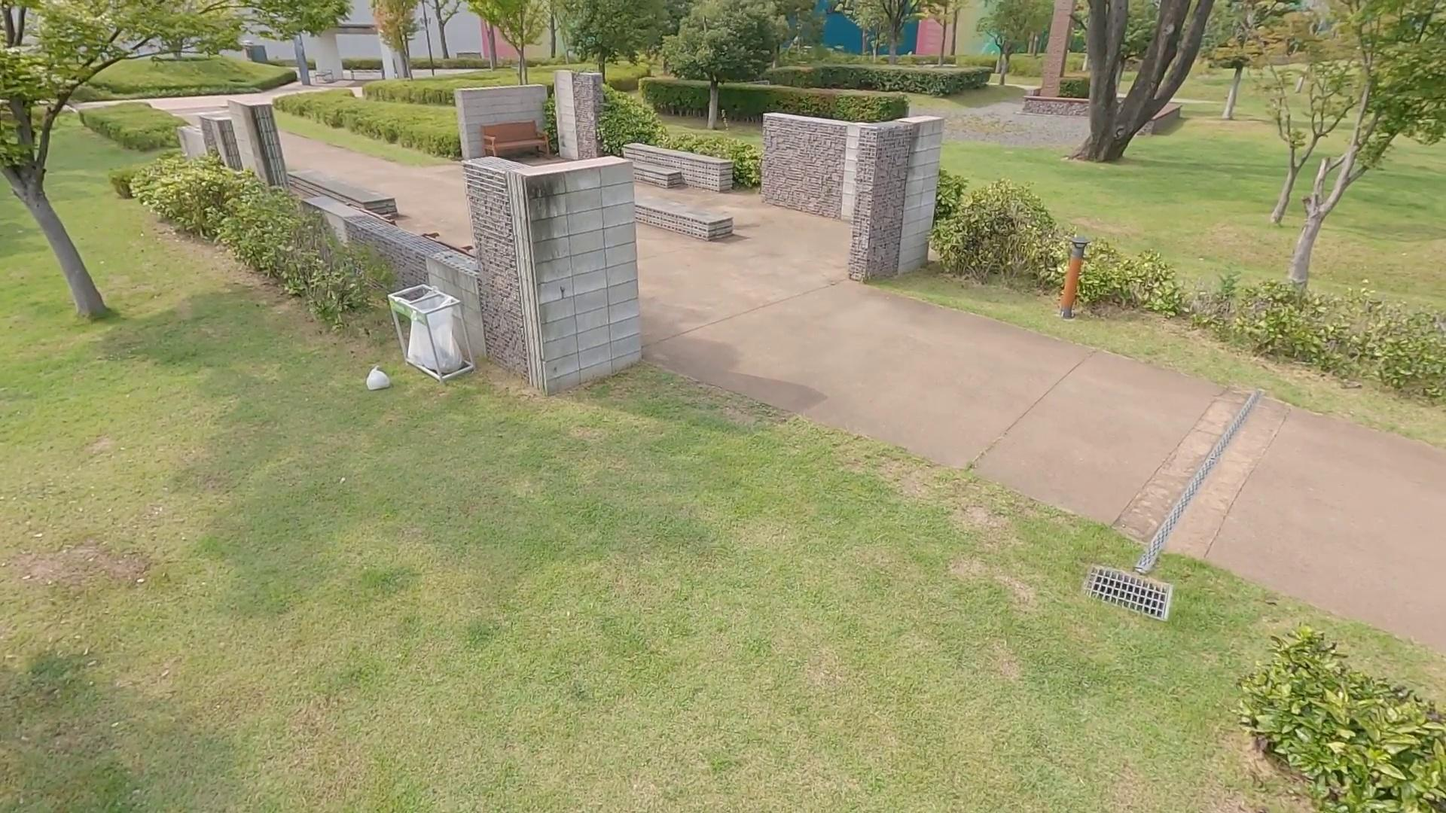trash: (368, 364, 388, 390)
